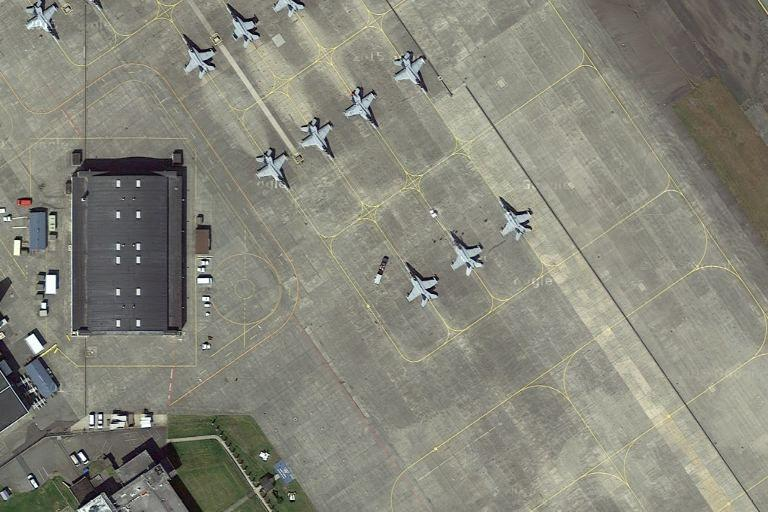F/A-18: (340, 84, 385, 136), (391, 48, 435, 101), (400, 258, 441, 314), (444, 227, 487, 280), (295, 115, 339, 165), (495, 195, 539, 245), (179, 32, 220, 84), (223, 3, 265, 52), (252, 146, 293, 194), (20, 2, 65, 44)
